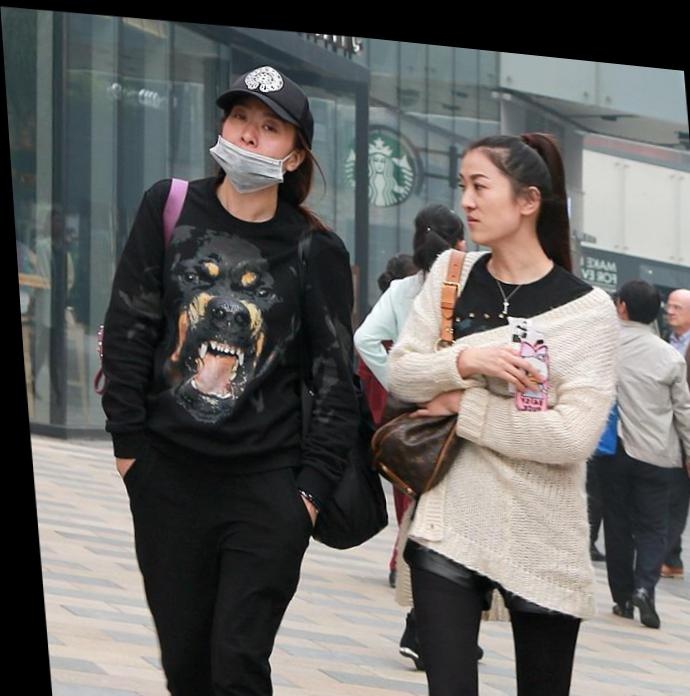NONE: (449, 160, 512, 233), (661, 283, 689, 316)
WRONG: (203, 89, 293, 181)
